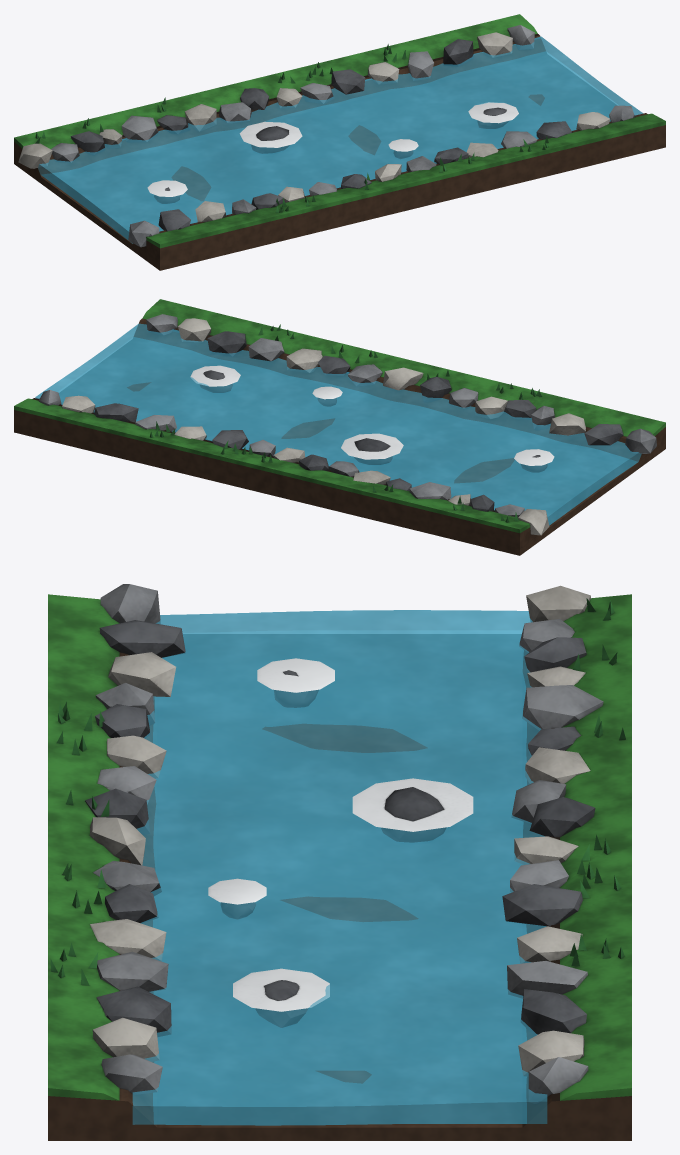
File: rio_segmento.fbx
The picture shows the model from 3 angles, top to bottom: view 1: azimuth 30°, elevation 25°; view 2: azimuth 150°, elevation 25°; view 3: azimuth 270°, elevation 25°; orthographic projection. The views are drawn at different scales.
Parts seen in each view (by area): view 1: rio_segmento, rio_segmento_agua; view 2: rio_segmento, rio_segmento_agua; view 3: rio_segmento, rio_segmento_agua.
Part boxes in pixels (x1,y1,x2,y2): rio_segmento: (14, 14, 665, 270); rio_segmento_agua: (38, 36, 643, 243); rio_segmento: (14, 299, 665, 555); rio_segmento_agua: (35, 323, 641, 525); rio_segmento: (48, 584, 631, 1140); rio_segmento_agua: (132, 610, 547, 1125).
Size of the model in its own units: 8.15 by 0.5233 by 4.
Materials: 2 (2 with a texture image).
